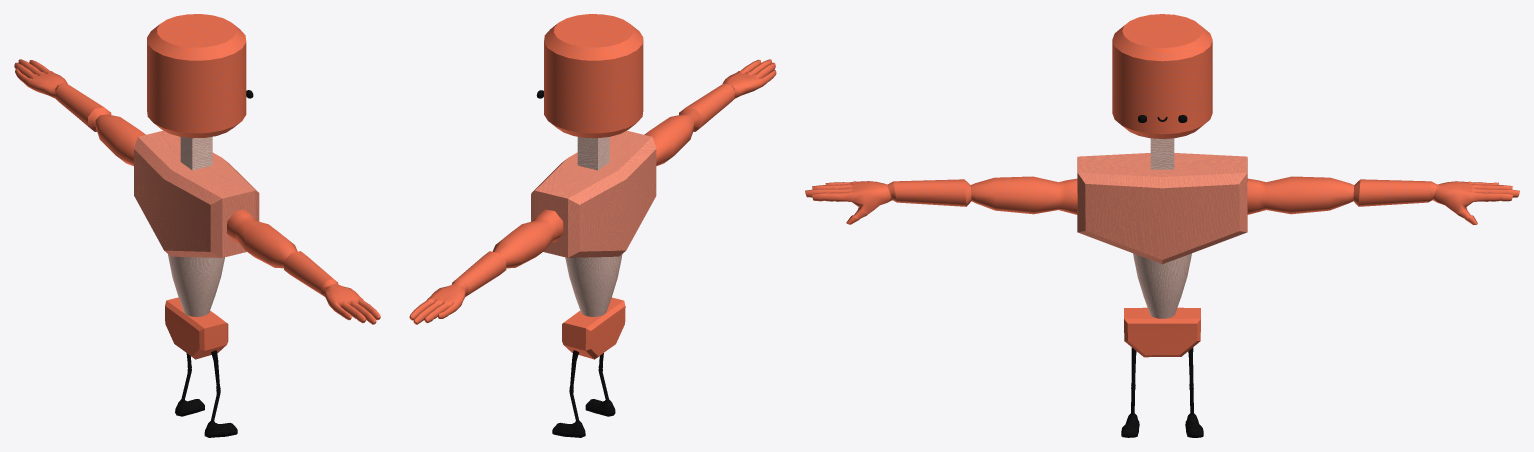
Rendered from Cylinder Head.glb.
The picture shows the model from 3 angles, left to right: view 1: azimuth 30°, elevation 25°; view 2: azimuth 150°, elevation 25°; view 3: azimuth 270°, elevation 25°; orthographic projection.
Visible parts, largest first — view 1: _100Avatars_174_CylinderHead; view 2: _100Avatars_174_CylinderHead; view 3: _100Avatars_174_CylinderHead.
Boxes of the visible parts, x1,y1,x2,y2 form: _100Avatars_174_CylinderHead: [14, 14, 380, 437]; _100Avatars_174_CylinderHead: [409, 14, 776, 437]; _100Avatars_174_CylinderHead: [805, 14, 1519, 437].
Size of the model in its own units: 0.8911 by 3.77 by 6.17.
Materials: 1 (1 with a texture image).
